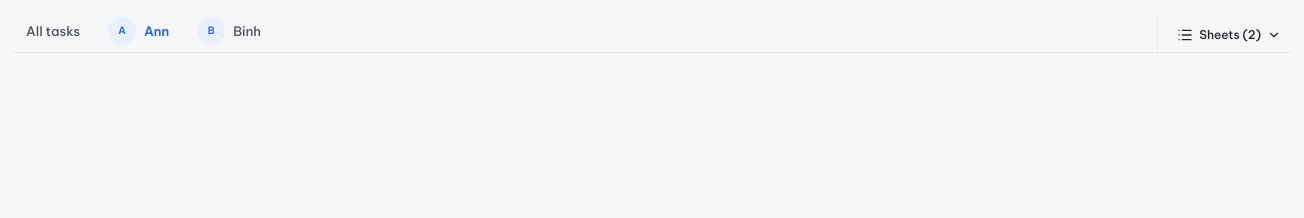
SheetTabs › says when no sheet matches the search
The image size is (1304, 218).
Click the button "Sheets (2)": click(1229, 35) [1166,22,1292,48]
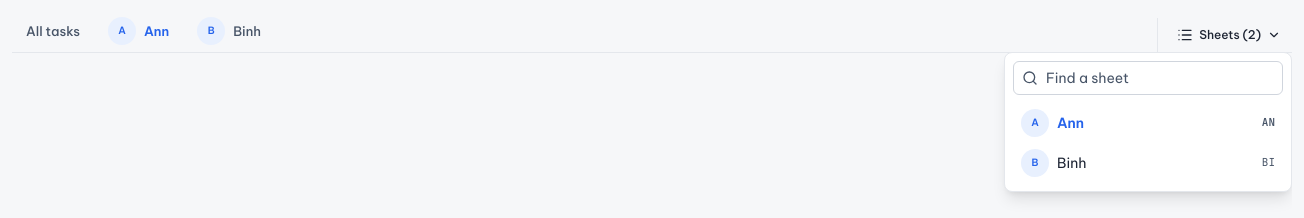
In the field labelled "Find a sheet": (1160, 78) [1046,62,1274,94], type "zzz"
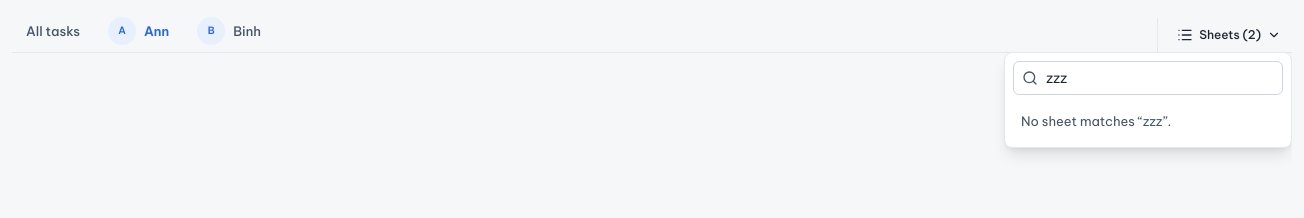
Check: the list item "No sheet matches “zzz”." is shown, box [1021,113,1171,129]
